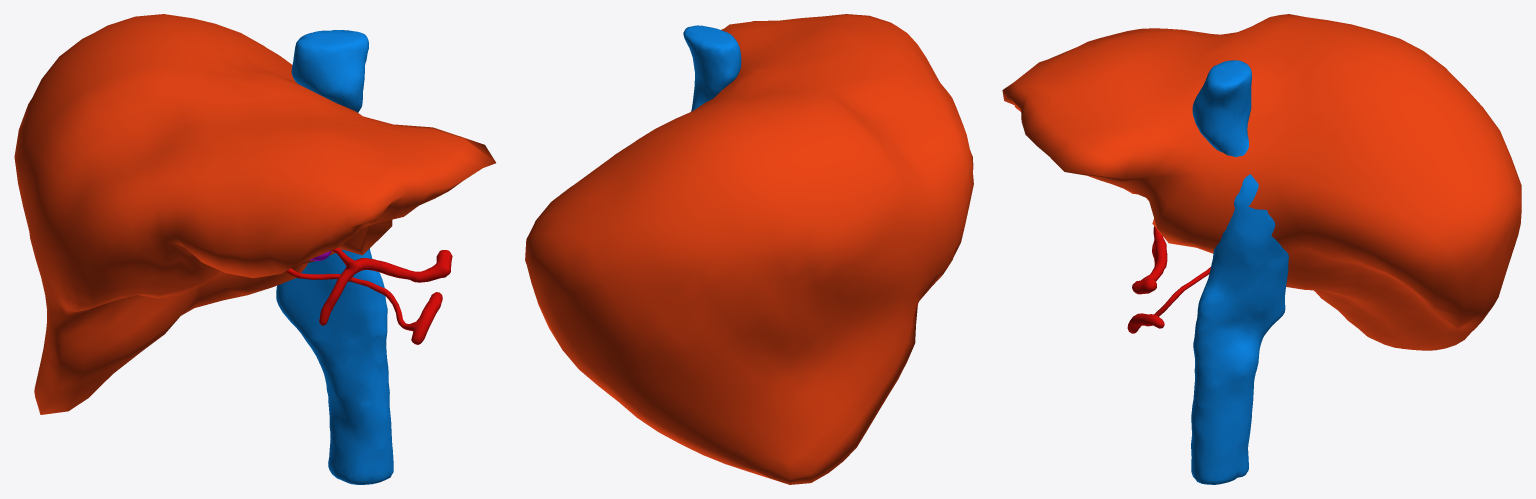
The model's file is 2_LiverForColliders_1_5_LeverWithInsidePart.fbx.
3 views of the same model, side by side, from view 1: azimuth 30°, elevation 25°; view 2: azimuth 150°, elevation 25°; view 3: azimuth 270°, elevation 25° (orthographic). The views are drawn at different scales.
Visible parts, largest first — view 1: Parenchyma_complex_1, Parenchyma_complex_1.006, Parenchyma_complex_1.004, Parenchyma_complex_1.005; view 2: Parenchyma_complex_1, Parenchyma_complex_1.006; view 3: Parenchyma_complex_1, Parenchyma_complex_1.006, Parenchyma_complex_1.004, Parenchyma_complex_1.005.
Boxes of the visible parts, box(x1,y1,x2,y2) form: Parenchyma_complex_1: box(14, 14, 495, 414); Parenchyma_complex_1.006: box(276, 30, 393, 484); Parenchyma_complex_1.004: box(319, 248, 452, 325); Parenchyma_complex_1.005: box(286, 268, 442, 344); Parenchyma_complex_1: box(525, 14, 973, 484); Parenchyma_complex_1.006: box(683, 25, 741, 111); Parenchyma_complex_1: box(1002, 14, 1521, 350); Parenchyma_complex_1.006: box(1191, 60, 1288, 484); Parenchyma_complex_1.004: box(1132, 226, 1167, 294); Parenchyma_complex_1.005: box(1127, 267, 1210, 333).
Bounding box in the file's own units: 80.79 × 92.94 × 111.
